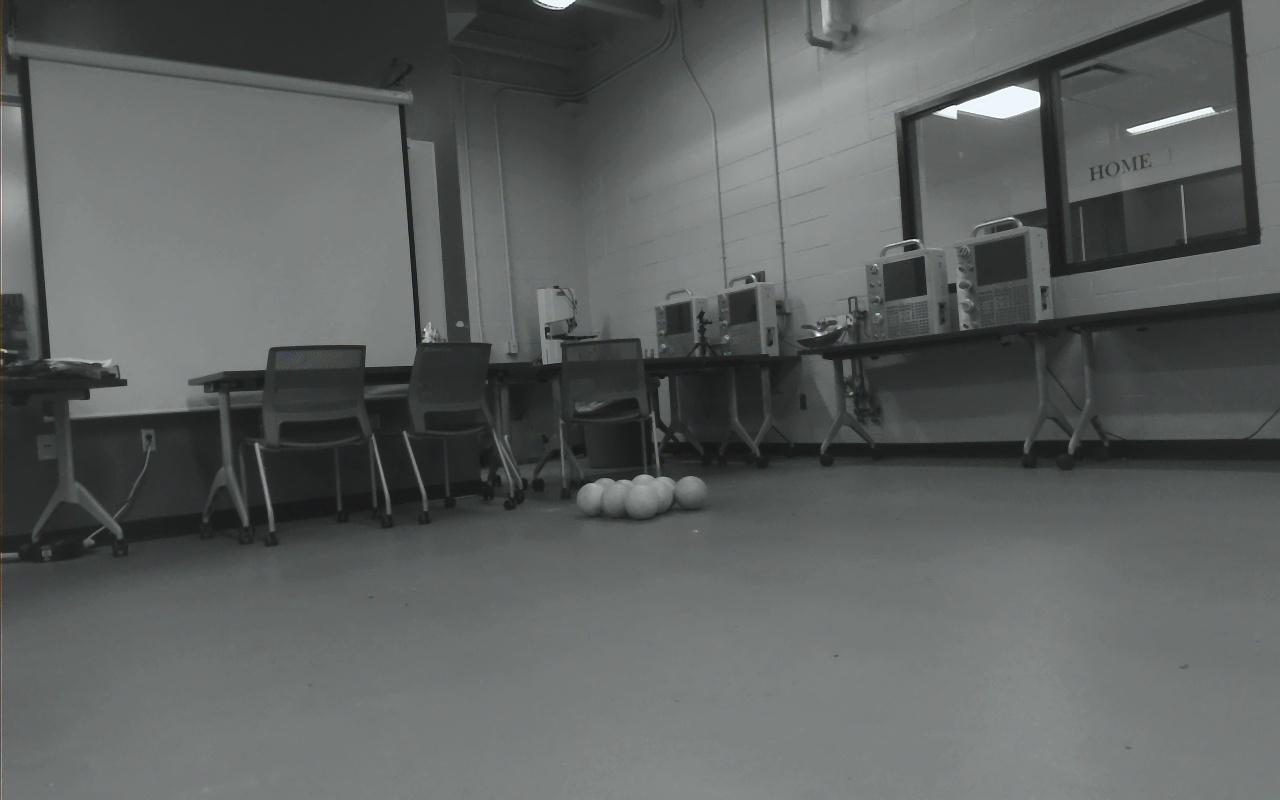Fuel: (623, 482, 658, 520), (673, 476, 708, 511), (576, 482, 607, 517), (600, 482, 630, 518), (644, 480, 672, 514), (650, 477, 677, 506), (612, 478, 638, 503), (591, 477, 618, 500), (631, 474, 657, 491)
